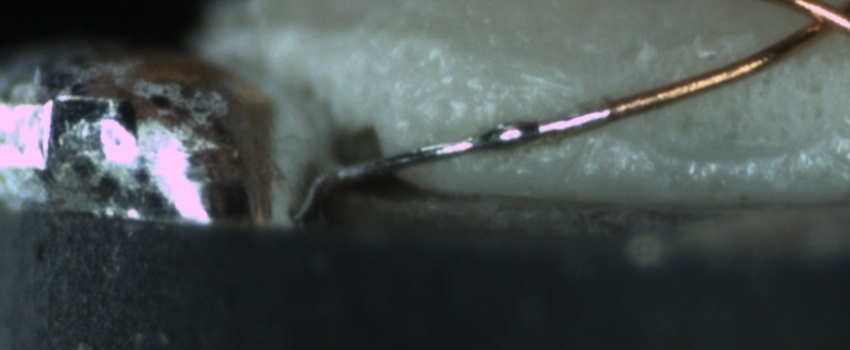CL: (781, 0, 848, 46)
DL: (435, 37, 597, 89)
TS: (338, 109, 612, 182)
TTCW: (333, 87, 667, 185)
